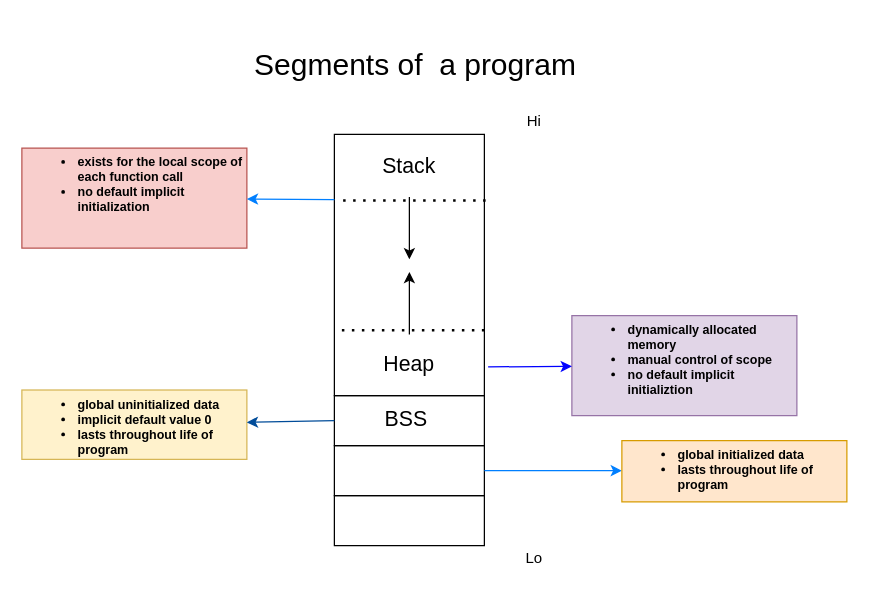
Image size: 869x591. Some labels were removed from this diagram. Here are the shapes that lost their labels. From the top down, the centre of each, then its label:
pixel 408 470: Data
pixel 408 520: Code
